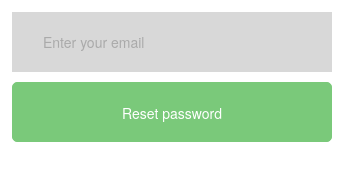
Scenario: ForgotPasswordForm › goes back to the form and toasts when the request fails
Later steps or results of the test are not shown.
In the field labelled "email": (172, 42) left=12, top=12, right=332, bottom=72, type "ada@example.com"
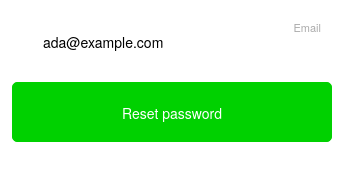
Expected: the button "Reset password" is enabled, left=12, top=82, right=332, bottom=142
